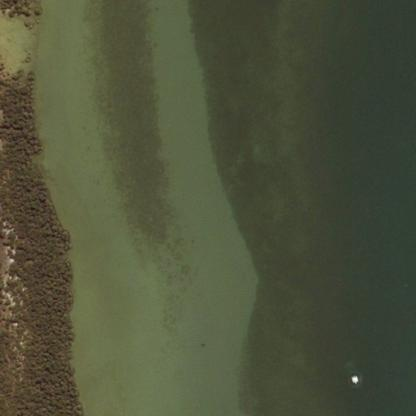ship: (350, 375, 358, 384)
